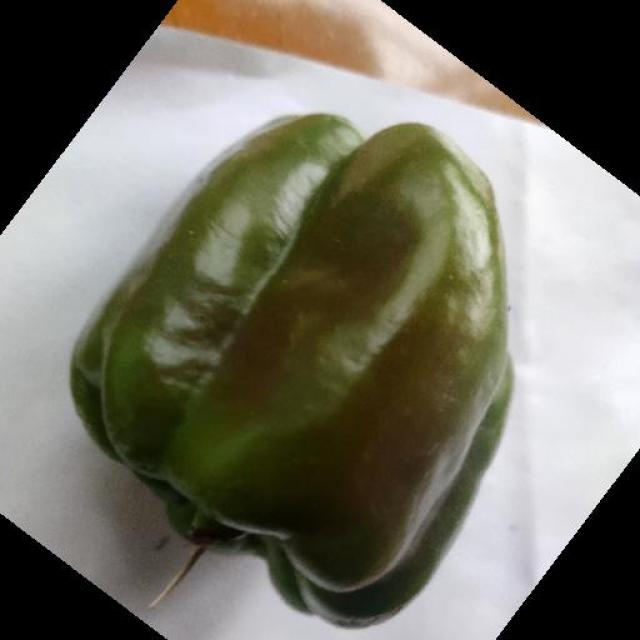Stale_Capsicum: (105, 125, 472, 555)
